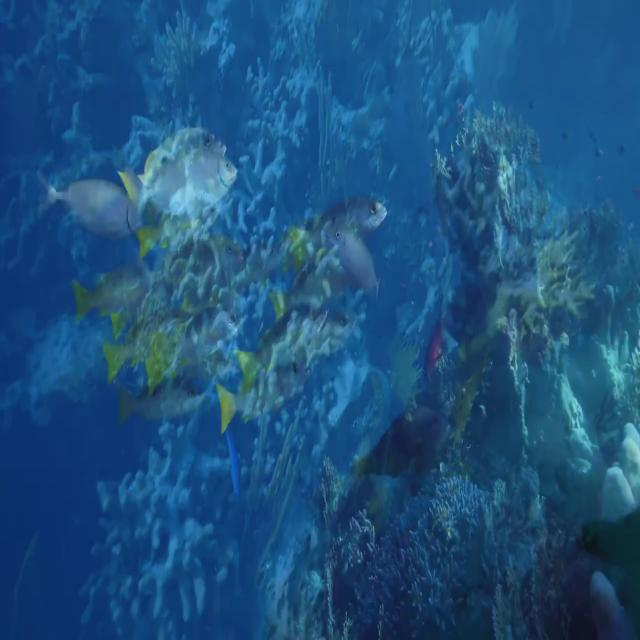fish: (42, 174, 140, 244)
